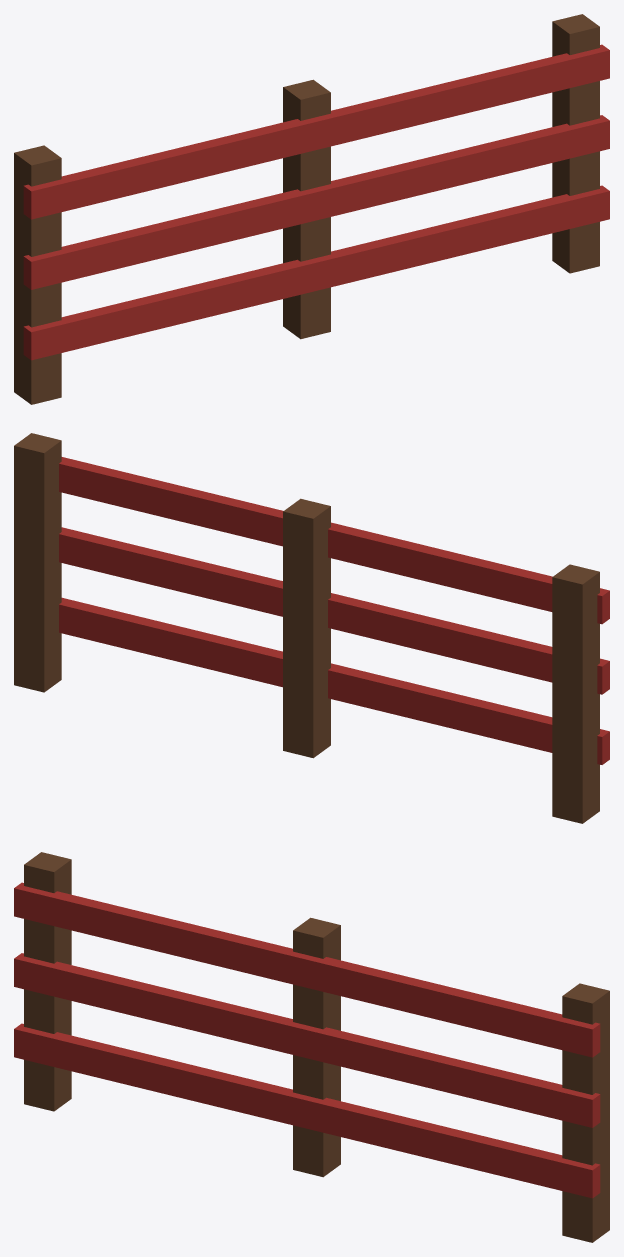
Rendered from FarmFence.fbx.
3 renders of one model, top to bottom at view 1: azimuth 30°, elevation 25°; view 2: azimuth 150°, elevation 25°; view 3: azimuth 330°, elevation 25°, orthographic.
Visible parts, largest first — view 1: Rails, Posts; view 2: Rails, Posts; view 3: Rails, Posts.
Boxes of the visible parts, x1,y1,x2,y2 form: Rails: (23,44,609,360); Posts: (14,14,599,404); Rails: (59,457,609,764); Posts: (14,433,599,823); Rails: (14,882,600,1198); Posts: (24,852,609,1242).
Size of the model in its own units: 8.6 by 3.4 by 0.575.
